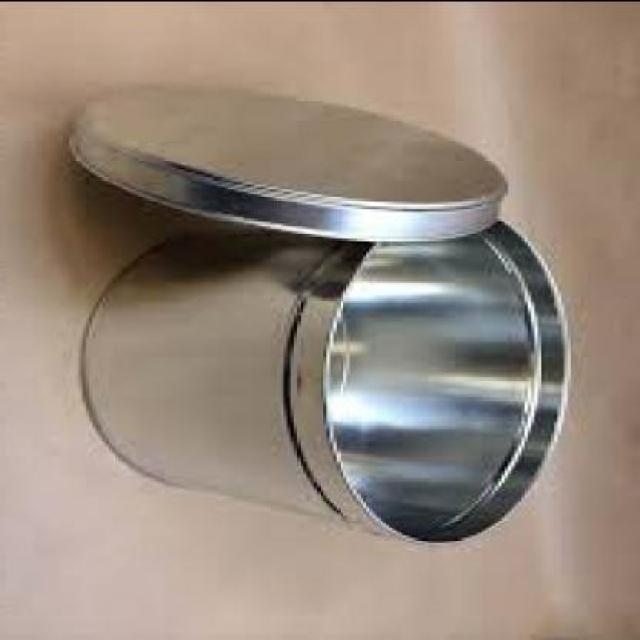METAL: (82, 214, 575, 540), (73, 84, 512, 242)
